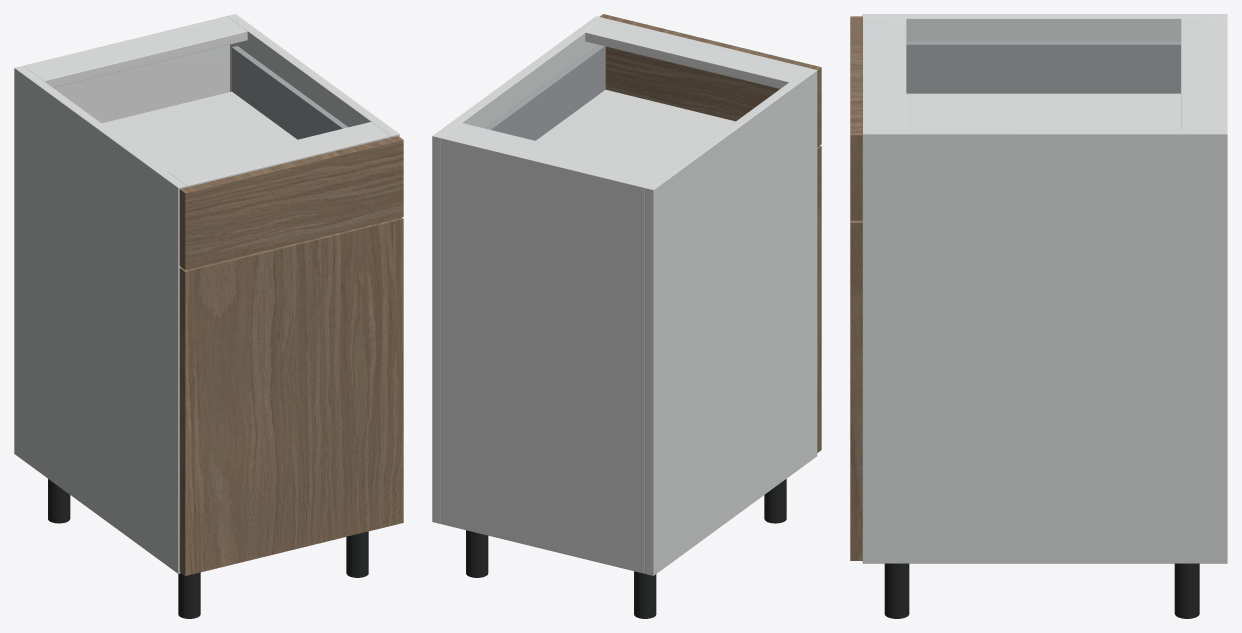
The model's file is oppein-pb-mnw-btc18.glb.
The picture shows the model from 3 angles, left to right: view 1: azimuth 30°, elevation 25°; view 2: azimuth 150°, elevation 25°; view 3: azimuth 270°, elevation 25°; orthographic projection. The views are drawn at different scales.
Parts seen in each view (by area): view 1: Door, Cabinet side, Drawer front, Drawer floor, Cabinet back, Top support rail, Drawer side.001, Top support rail.001, Cabinet side.001, Adjustable foot.001, Adjustable foot.003, Adjustable foot; view 2: Cabinet back, Cabinet side, Drawer floor, Drawer front, Cabinet side.001, Top support rail.001, Drawer side.001, Top support rail, Cabinet bottom, Door, Adjustable foot, Adjustable foot.002 (+1 smaller); view 3: Cabinet side.001, Drawer side, Drawer floor, Cabinet side, Top support rail.001, Top support rail, Door, Drawer front, Adjustable foot.002, Adjustable foot.003, Cabinet back.
Boxes of the visible parts, x1,y1,x2,y2 form: Door: (179,217,403,575); Cabinet side: (14,66,186,573); Drawer front: (179,136,403,269); Drawer floor: (102,91,297,171); Cabinet back: (23,16,229,123); Top support rail: (25,18,247,87); Drawer side.001: (232,46,348,139); Top support rail.001: (167,122,390,187); Cabinet side.001: (227,14,399,137); Adjustable foot.001: (178,572,200,618); Adjustable foot.003: (346,531,368,577); Adjustable foot: (48,479,70,523); Cabinet back: (441,136,647,573); Cabinet side: (645,68,817,575); Drawer floor: (536,89,735,172); Drawer front: (599,14,821,146); Cabinet side.001: (432,16,604,523); Top support rail.001: (585,18,808,88); Drawer side.001: (485,45,605,140); Top support rail: (444,123,665,185); Cabinet bottom: (441,517,644,573); Door: (817,145,821,452); Adjustable foot: (634,571,656,618); Adjustable foot.002: (466,530,488,577); Cabinet side.001: (862,129,1227,563); Drawer side: (906,41,1180,93); Drawer floor: (906,93,1180,129); Cabinet side: (862,14,1227,41); Top support rail.001: (862,18,906,129); Top support rail: (1181,18,1220,129); Door: (850,220,862,560); Drawer front: (850,16,862,220); Adjustable foot.002: (1174,563,1199,618); Adjustable foot.003: (884,563,909,618); Cabinet back: (1220,18,1227,129).
Size of the model in its own units: 0.4572 by 0.8763 by 0.6064.
Materials: 4 (1 with a texture image).
